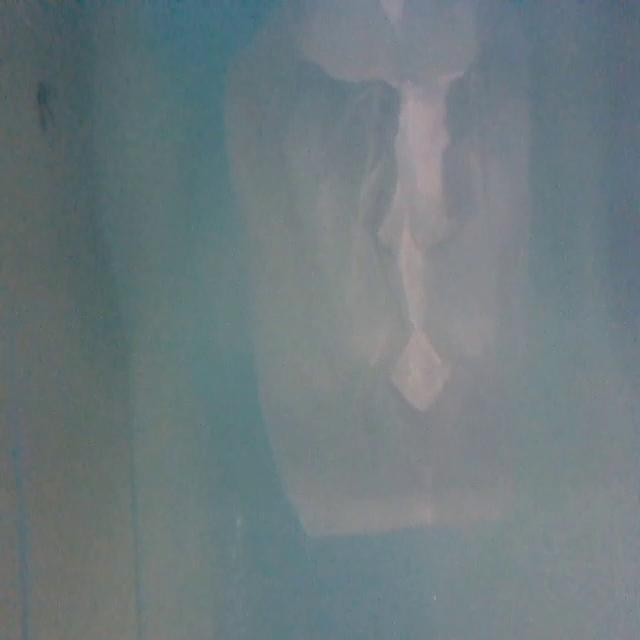plastic bags: (241, 6, 528, 543)
